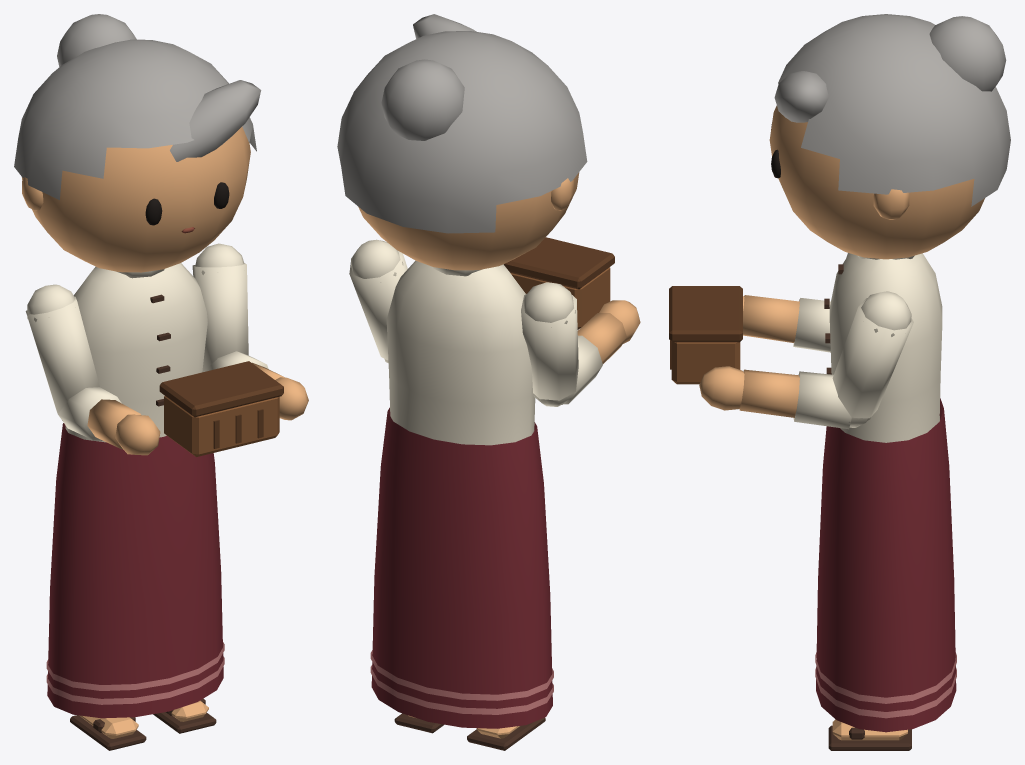
File: era1_grandma_box.glb
3 renders of one model, left to right at view 1: azimuth 30°, elevation 25°; view 2: azimuth 150°, elevation 25°; view 3: azimuth 270°, elevation 25°, orthographic. The views are drawn at different scales.
Parts seen in each view (by area): view 1: body, head, prop_wooden_box, arm_R, arm_L, forearm_R, shin_R, forearm_L, shin_L; view 2: body, head, arm_R, prop_wooden_box, arm_L, forearm_R, shin_R, shin_L; view 3: body, head, arm_L, prop_wooden_box, forearm_L, forearm_R, shin_L.
Boxes of the visible parts, x1,y1,x2,y2 form: body: (46,263,224,718); head: (14,14,261,272); prop_wooden_box: (159,361,283,456); arm_R: (25,284,99,420); arm_L: (192,243,248,371); forearm_R: (58,387,160,455); shin_R: (70,715,146,750); forearm_L: (203,351,308,420); shin_L: (153,698,216,733); body: (370,260,553,728); head: (337,14,587,270); arm_R: (521,282,578,406); prop_wooden_box: (503,237,614,329); arm_L: (349,239,407,363); forearm_R: (533,300,640,404); shin_R: (467,717,545,750); shin_L: (394,713,443,733); body: (815,253,956,732); head: (769,14,1010,259); arm_L: (832,291,913,427); prop_wooden_box: (669,286,742,384); forearm_L: (699,366,870,429); forearm_R: (743,295,830,352); shin_L: (828,719,911,750).
Bounding box in the file's own units: 0.4938 × 1.47 × 0.6472.
